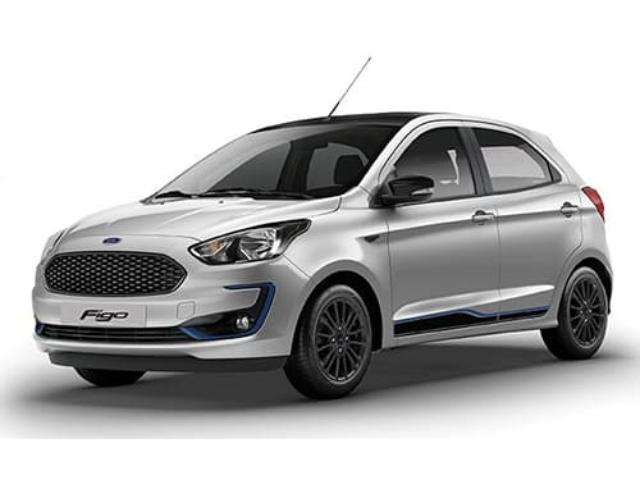ford: (31, 57, 614, 401)
